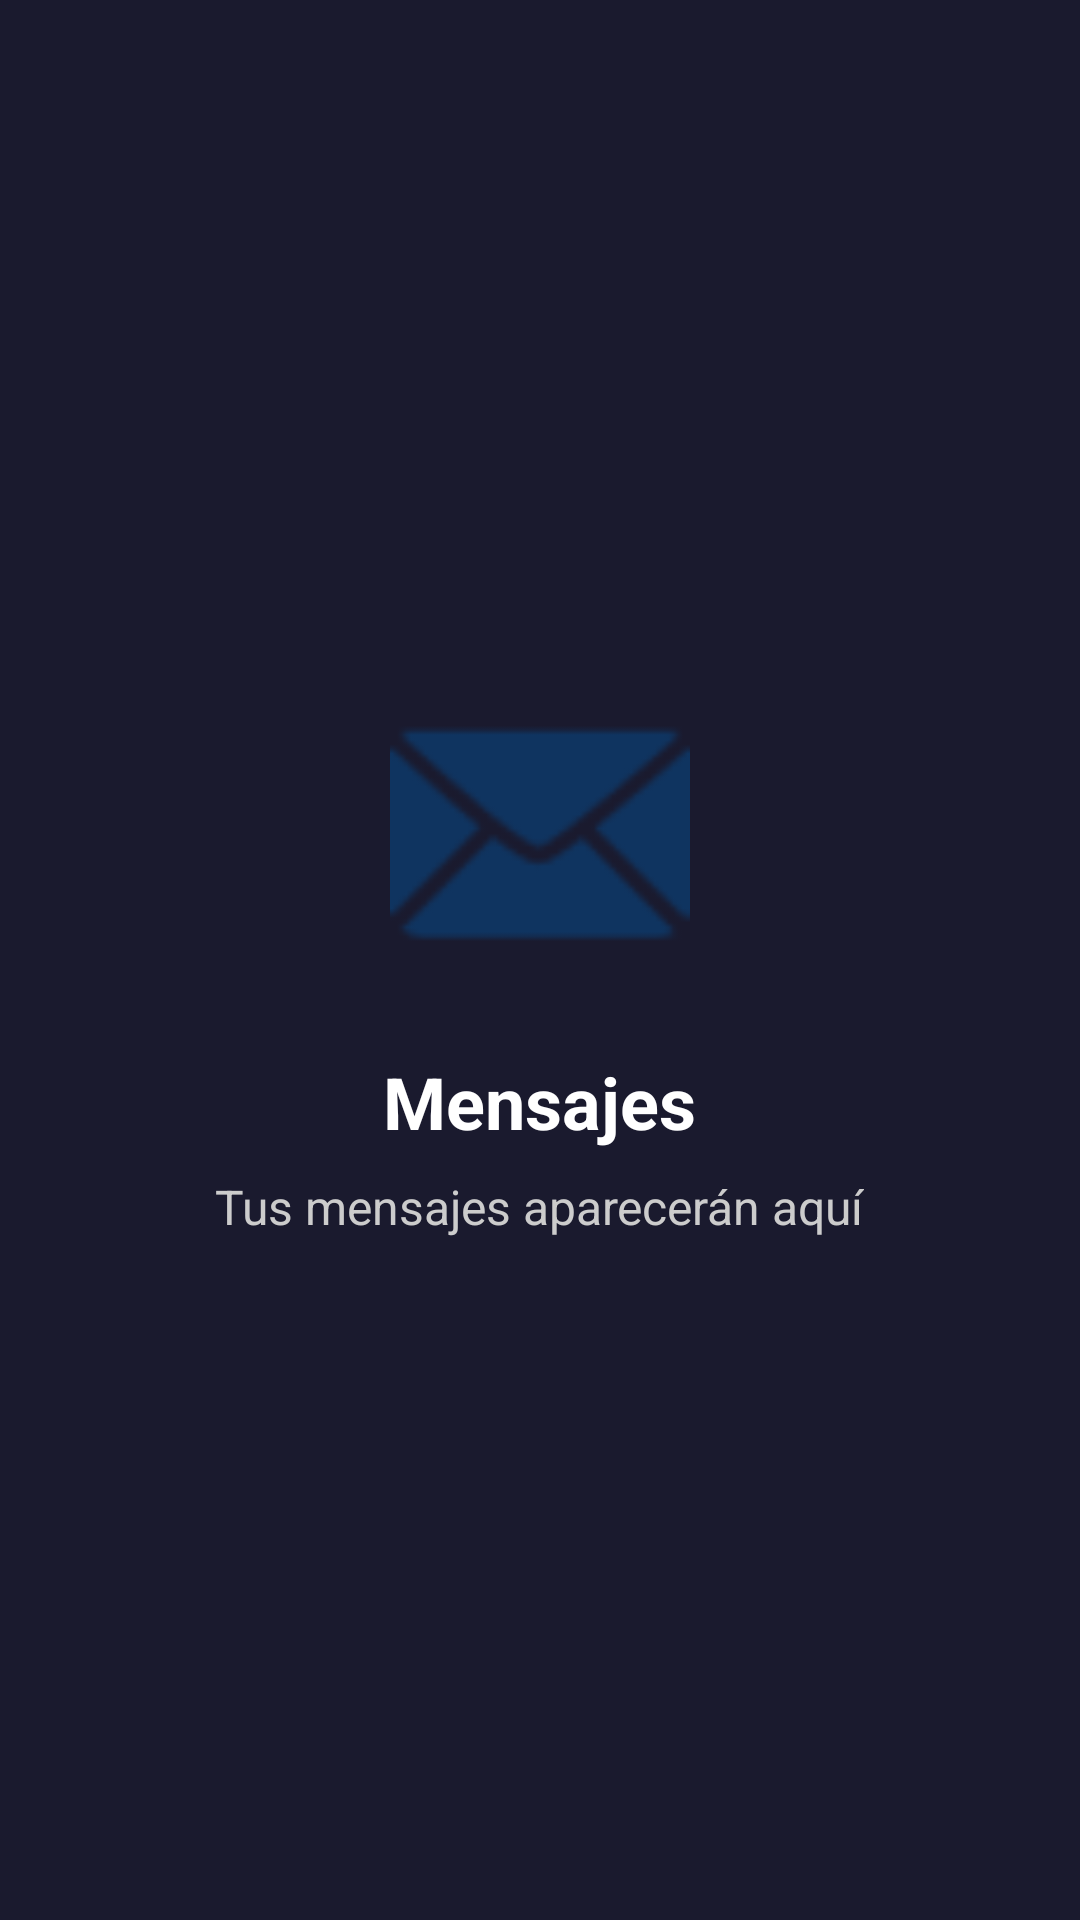

Where icons sit on this 1080w x 1920h app screen, as (x1, y1, x2, y2):
email: (390, 731, 690, 938)
